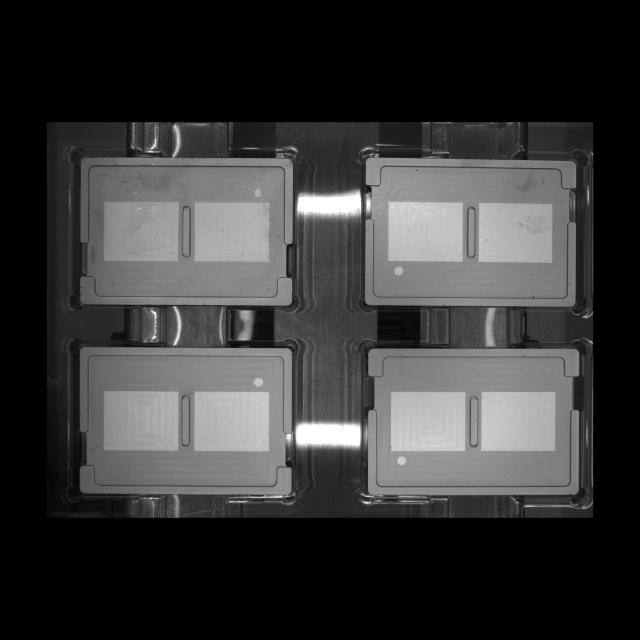product: (357, 144, 589, 316), (68, 335, 300, 506), (66, 144, 302, 312), (357, 337, 589, 507)
